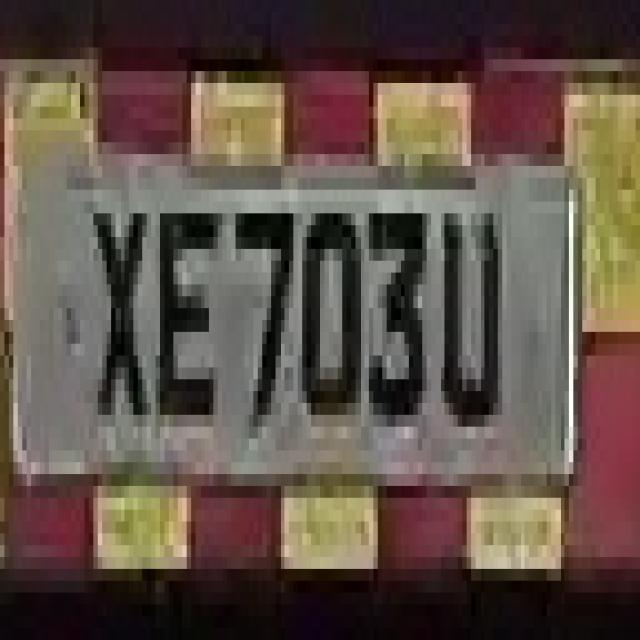0: (294, 166, 356, 438)
3: (347, 178, 431, 450)
7: (209, 166, 293, 427)
E: (142, 178, 218, 462)
U: (422, 166, 520, 450)
X: (85, 166, 146, 427)
